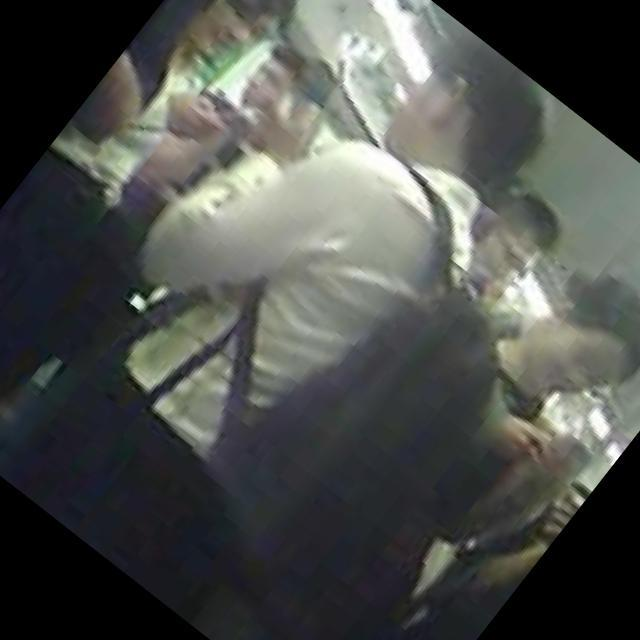person: (0, 0, 596, 634), (324, 242, 640, 640), (0, 0, 316, 283), (73, 0, 272, 156), (422, 172, 586, 347), (210, 29, 348, 172)
